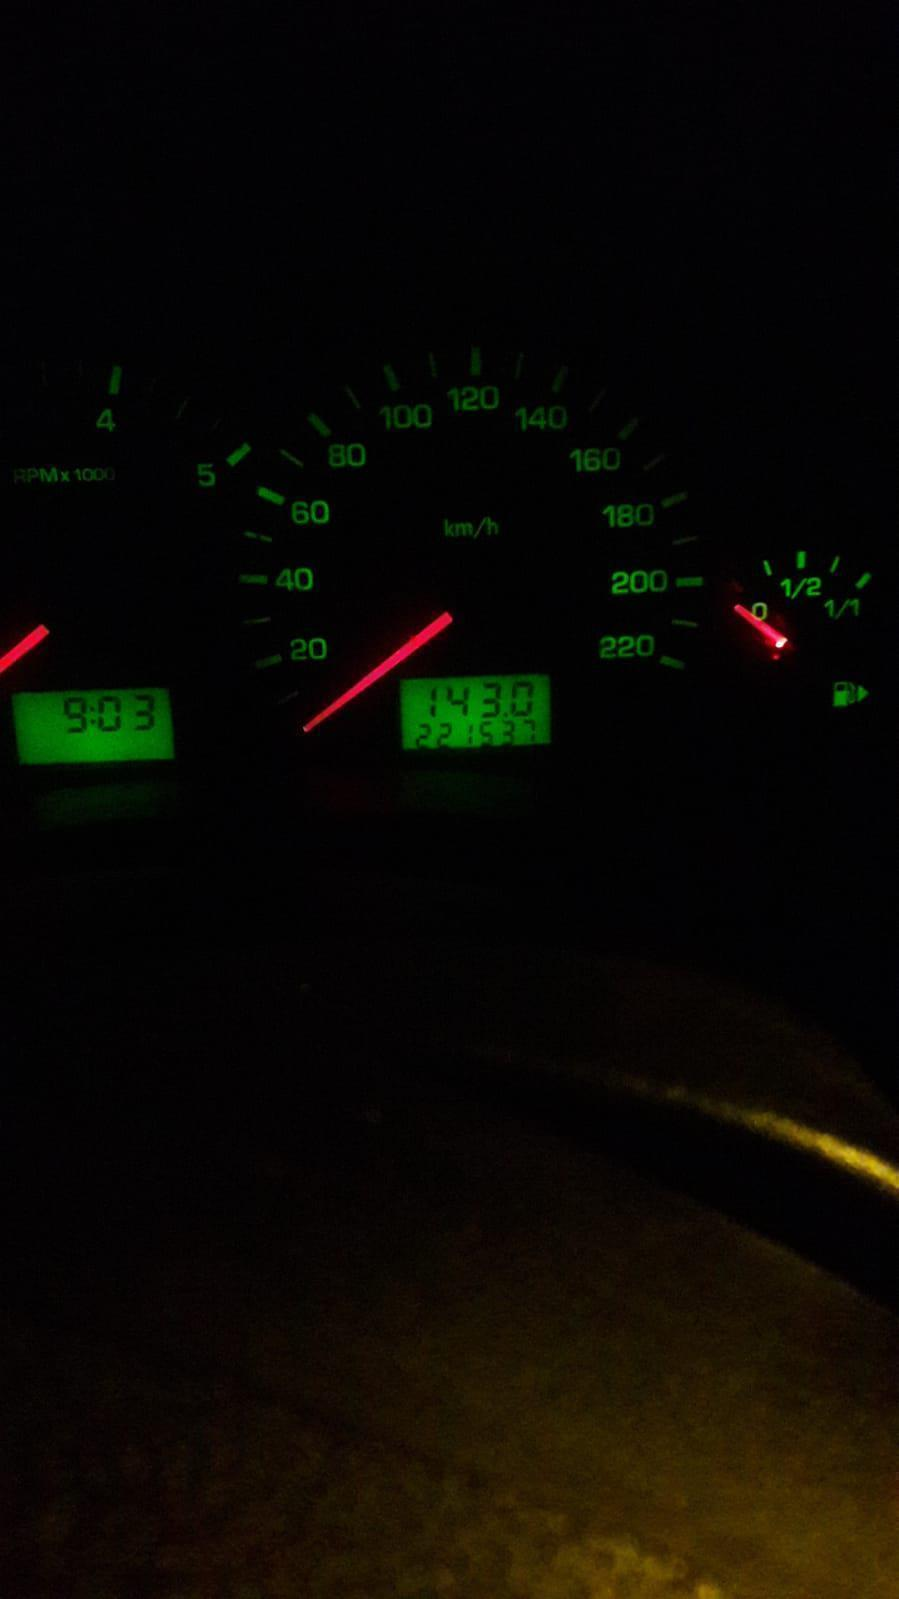,: (502, 712, 508, 718)
0: (510, 680, 533, 716)
1: (428, 686, 437, 718), (467, 723, 473, 745)
2: (415, 722, 431, 750), (436, 722, 452, 748)
3: (481, 682, 501, 717), (501, 719, 515, 746)
4: (446, 686, 469, 715)
5: (479, 720, 494, 746)
7: (522, 719, 537, 743)
odometer: (398, 672, 555, 752)
